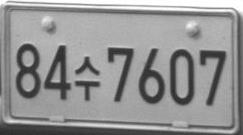0: (168, 48, 194, 106)
4: (43, 44, 71, 100)
6: (137, 47, 165, 104)
7: (199, 49, 226, 106), (107, 47, 133, 103)
8: (14, 42, 41, 98)
수: (74, 55, 101, 101)
